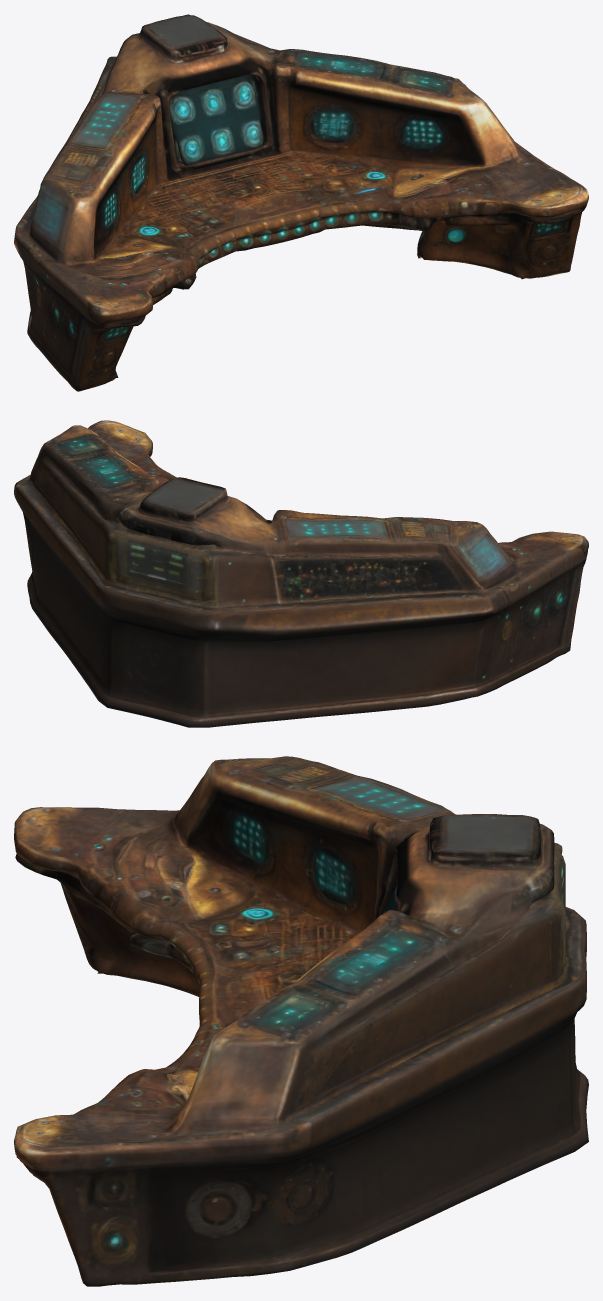
File: starship_big_console_0127171941_texture.fbx
3 views of the same model, one above another, from view 1: azimuth 30°, elevation 25°; view 2: azimuth 150°, elevation 25°; view 3: azimuth 270°, elevation 25° (orthographic). The views are drawn at different scales.
Parts seen in each view (by area): view 1: Mesh0_Mesh0.003; view 2: Mesh0_Mesh0.003; view 3: Mesh0_Mesh0.003.
Boxes of the visible parts, box(x1,y1,x2,y2) form: Mesh0_Mesh0.003: box(14, 14, 588, 391); Mesh0_Mesh0.003: box(14, 420, 588, 727); Mesh0_Mesh0.003: box(14, 756, 588, 1286).
Size of the model in its own units: 200 by 76.6 by 141.
Materials: 1 (1 with a texture image).
